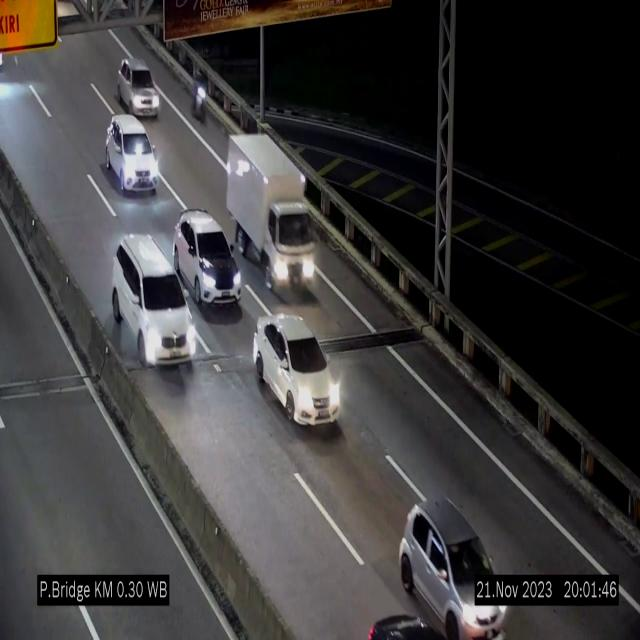Car: (400, 500, 505, 638), (112, 235, 196, 369), (253, 314, 342, 426), (173, 210, 241, 318), (106, 115, 160, 193), (117, 57, 159, 116)
Motorcycle: (192, 63, 208, 128)
Truck: (225, 128, 318, 296)
